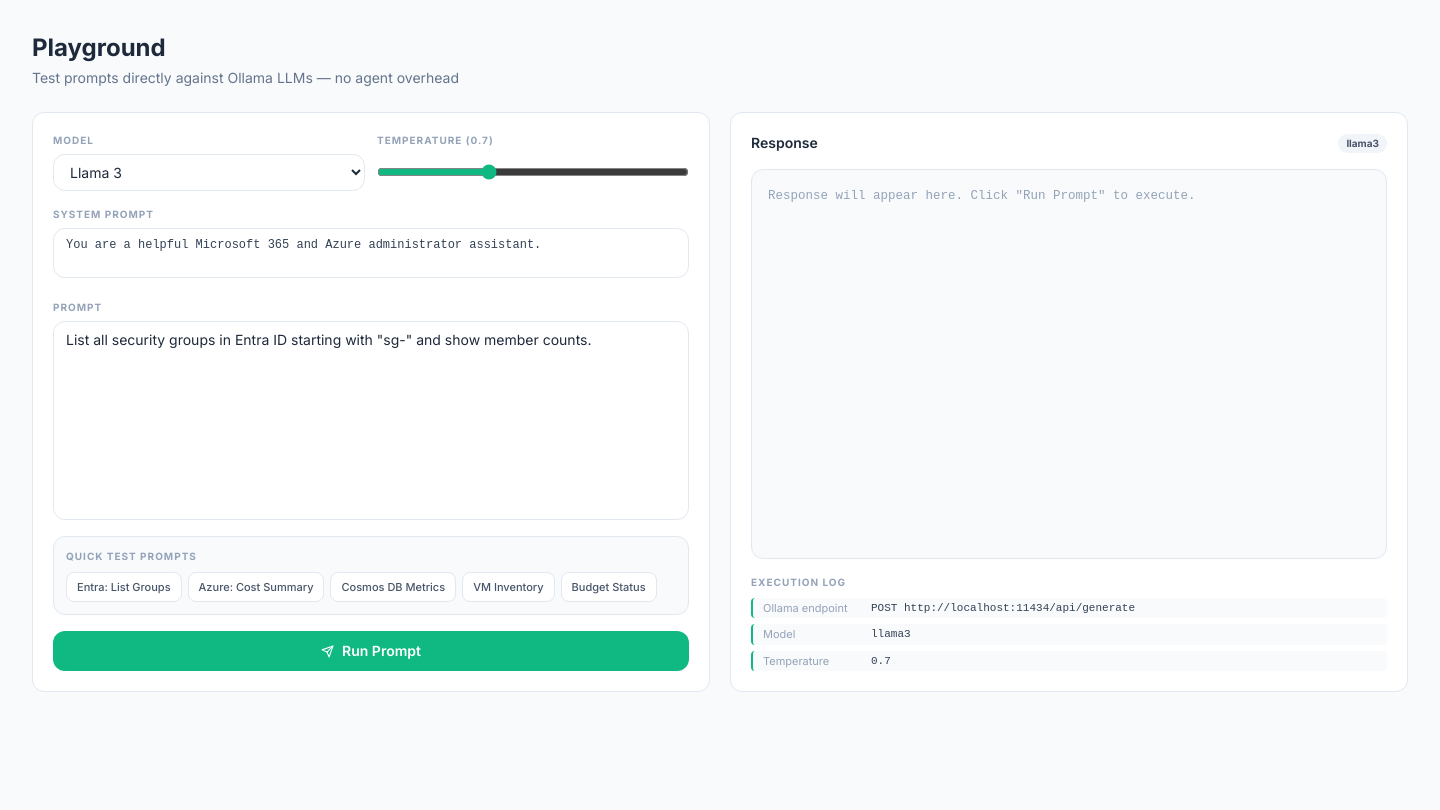
Test: PlaygroundPage › clicking quick test fills prompt textarea
This screenshot has width=1440, height=810.
Click the button "Azure: Cost Summary" at (256, 587), box [188,572,324,602]
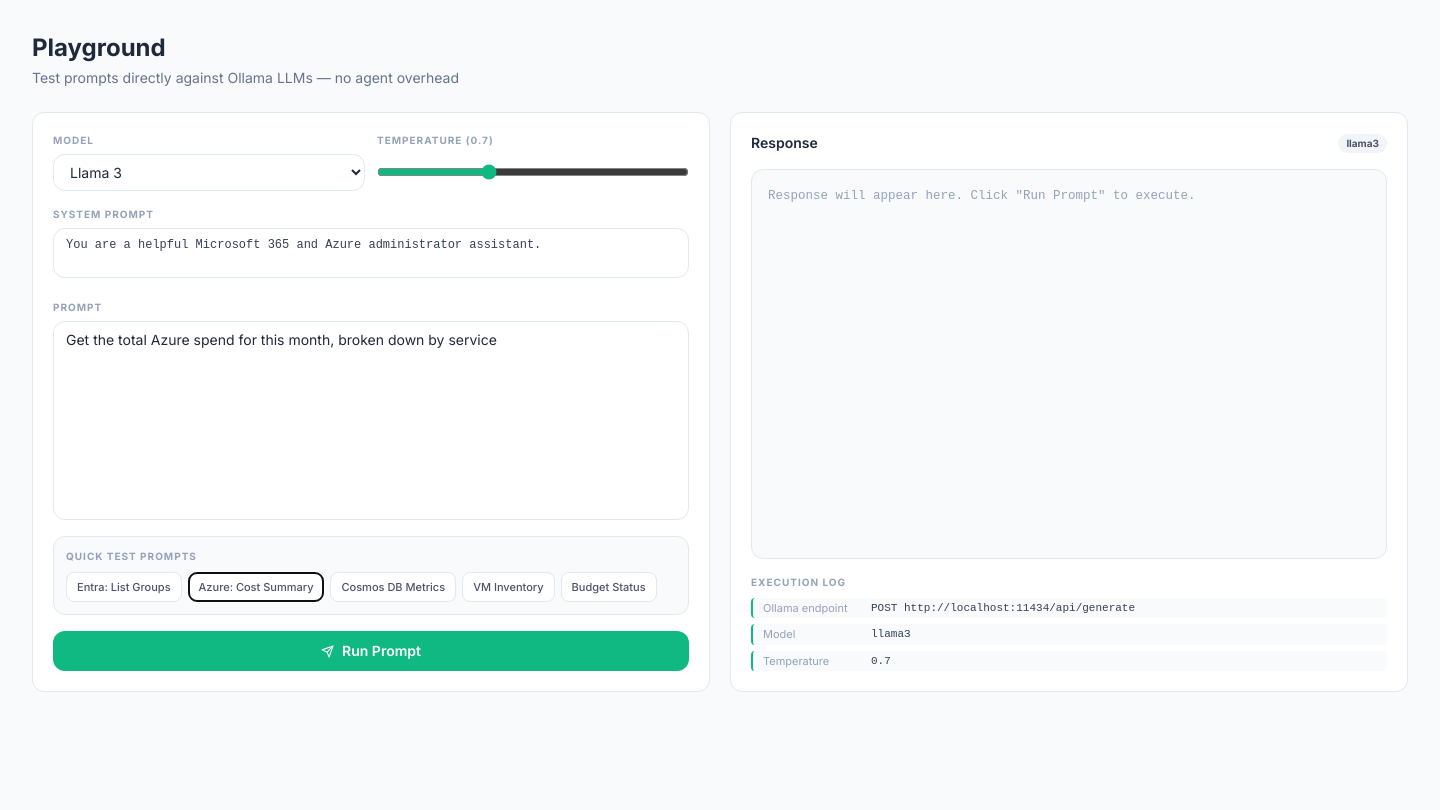
Expected: the 2nd text box showing "azure spend" is shown, [53,321,689,520]
